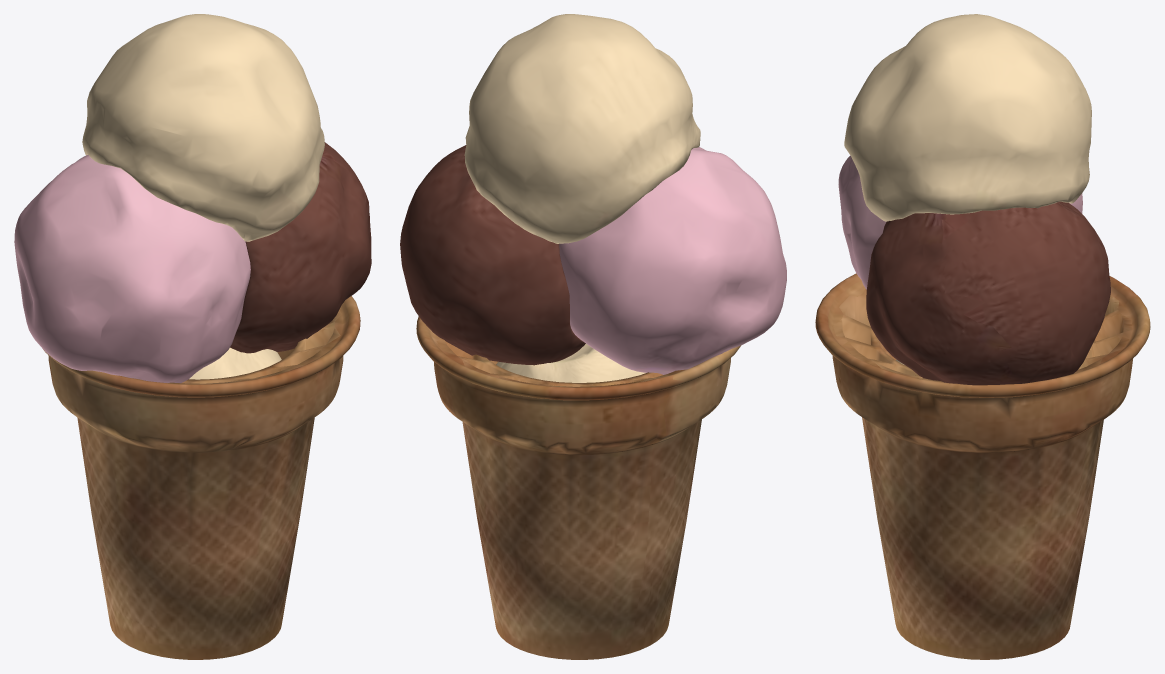
Rendered from ice-cream-a.glb.
The picture shows the model from 3 angles, left to right: view 1: azimuth 30°, elevation 25°; view 2: azimuth 150°, elevation 25°; view 3: azimuth 270°, elevation 25°; orthographic projection.
Parts seen in each view (by area): view 1: ice-cream-cone-004; view 2: ice-cream-cone-004; view 3: ice-cream-cone-004.
Boxes of the visible parts, x1,y1,x2,y2 form: ice-cream-cone-004: (14,14,371,659); ice-cream-cone-004: (400,14,786,659); ice-cream-cone-004: (815,14,1150,659).
Size of the model in its own units: 0.0928 by 0.1554 by 0.079.
1 material, 1 textured.
